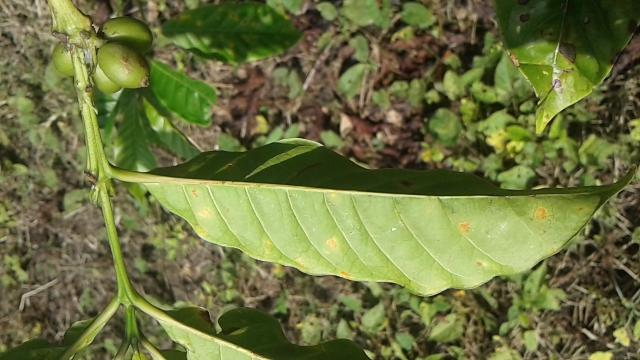rust_level_1: (136, 136, 640, 300)
